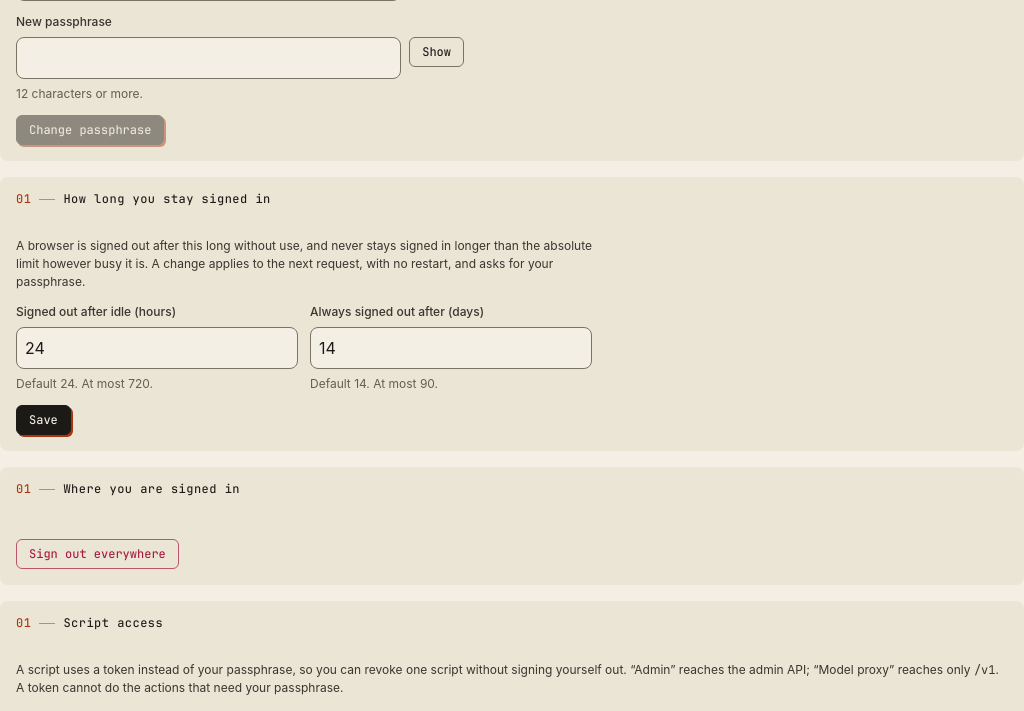
Test case: SignInSettings › shows how long a sign-in lasts, and saves new limits
(page scrolled)
Expected: the number field with test id "absolute-days" holds "14", [310, 327, 592, 369]
Replace the text in the number field with test id "idle-hours" with "8" at (157, 348), box [16, 327, 298, 369]
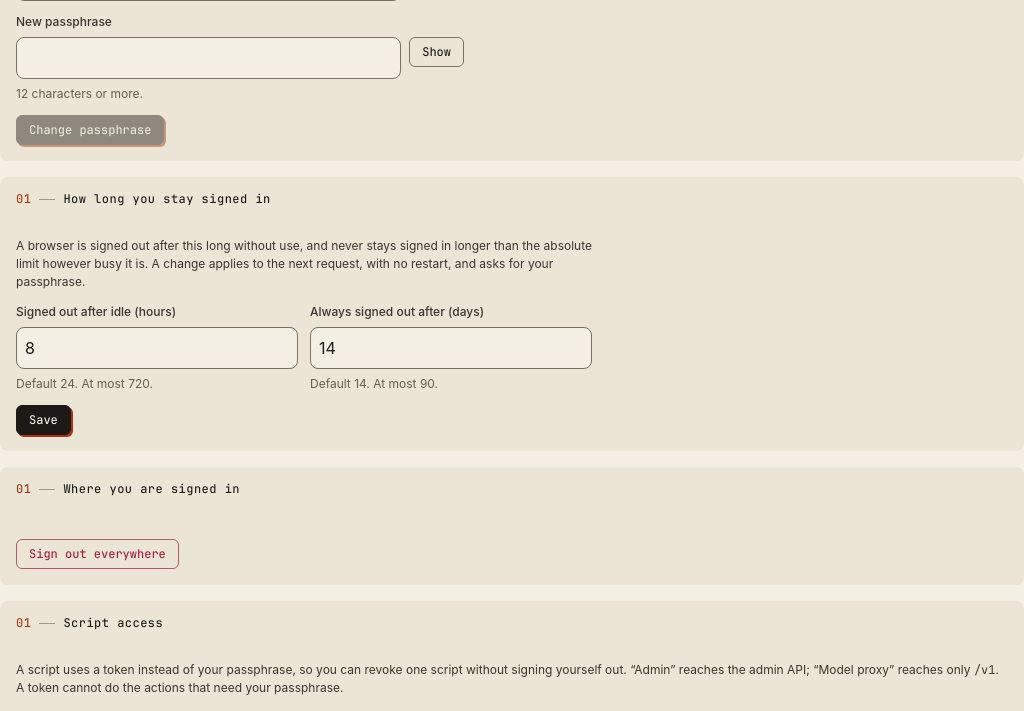
Replace the text in the number field with test id "absolute-days" with "7" at (451, 348), box [310, 327, 592, 369]
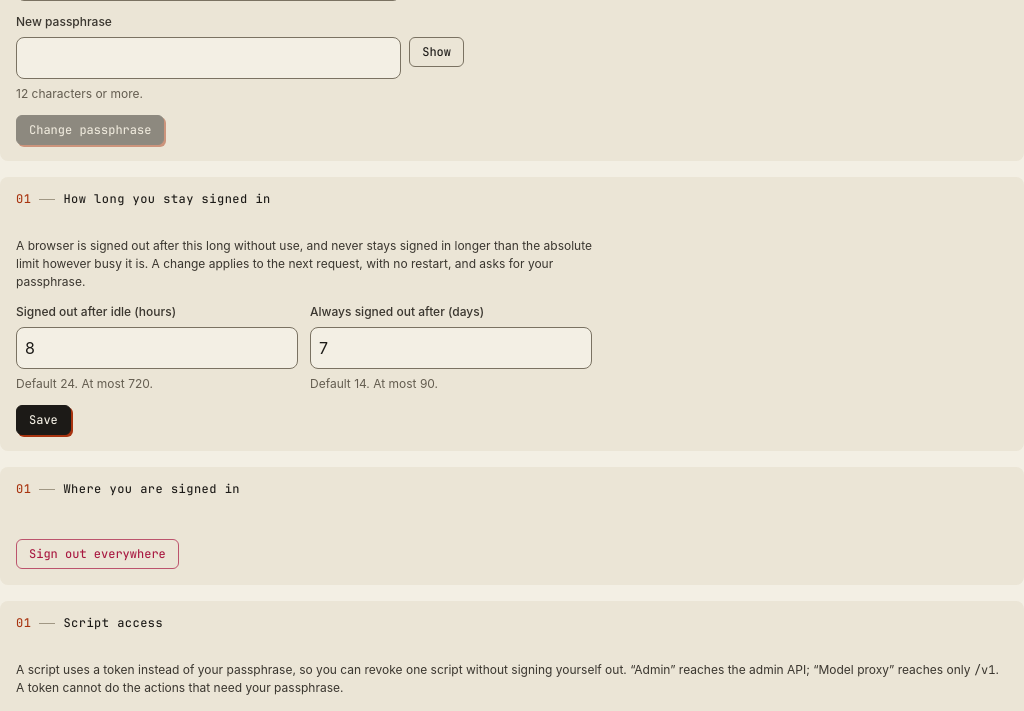
Submit the form with test id "session-length-form", box [16, 237, 592, 435]
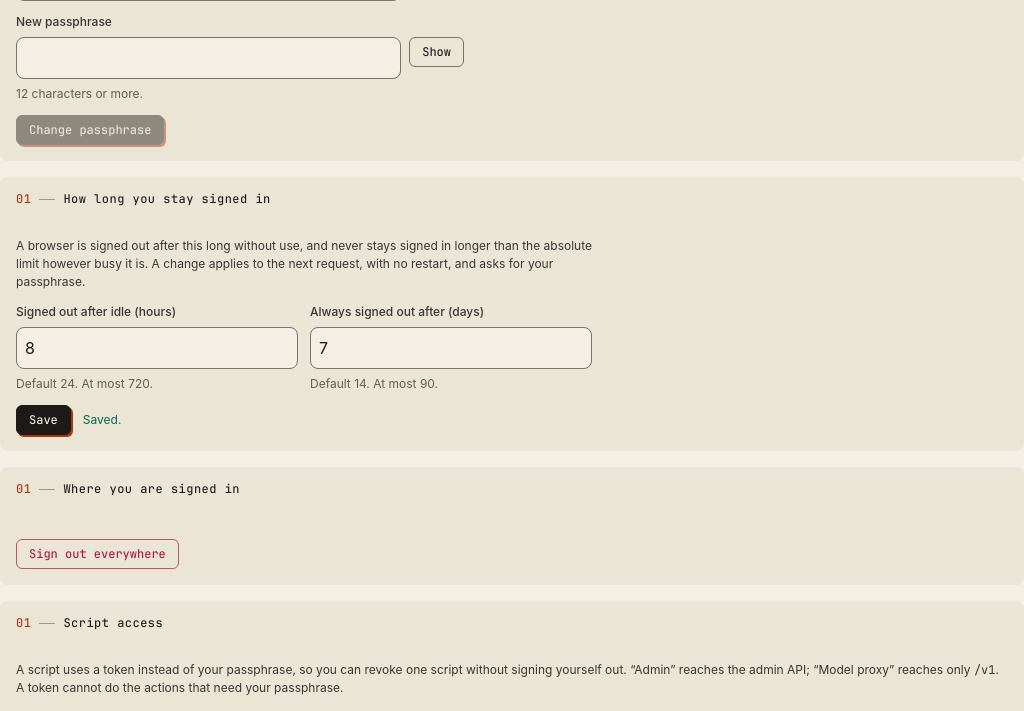
Expected: the message with test id "session-length-done" shows "Saved", [83, 412, 121, 427]
